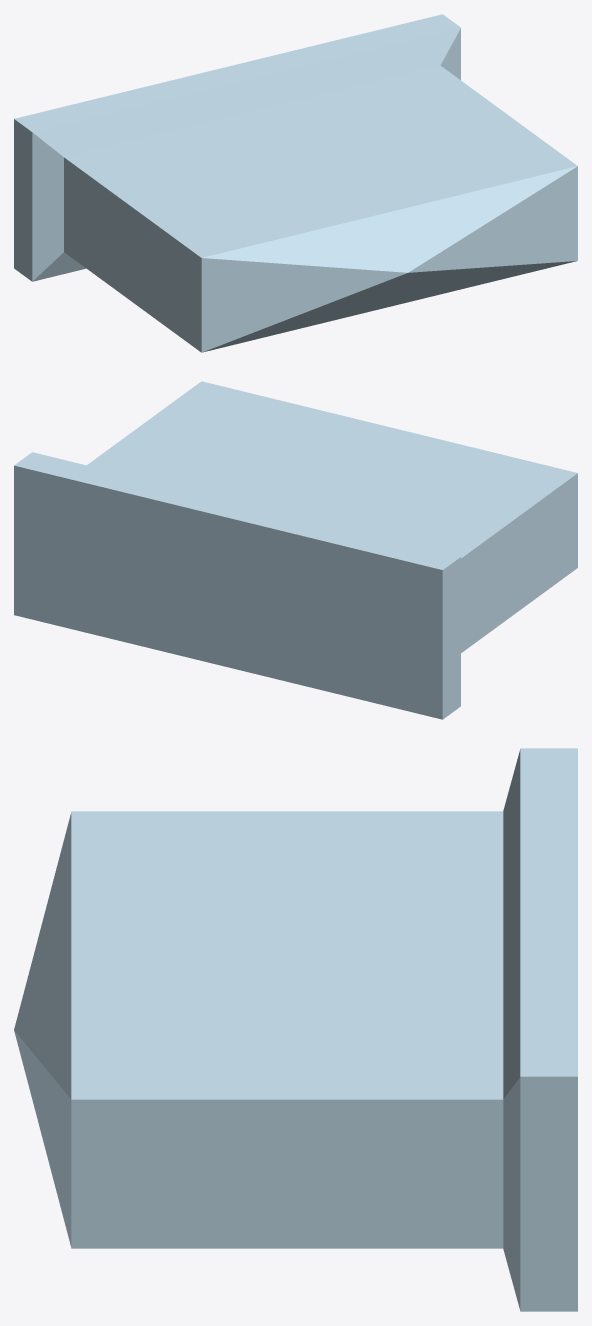
The picture shows the model from 3 angles, top to bottom: view 1: azimuth 30°, elevation 25°; view 2: azimuth 150°, elevation 25°; view 3: azimuth 270°, elevation 25°; orthographic projection. The views are drawn at different scales.
Parts seen in each view (by area): view 1: PA-550-F_LOD0; view 2: PA-550-F_LOD0; view 3: PA-550-F_LOD0.
Part boxes in pixels (x1,y1,x2,y2): PA-550-F_LOD0: (14, 14, 577, 352); PA-550-F_LOD0: (14, 381, 577, 719); PA-550-F_LOD0: (14, 748, 577, 1311).
Bounding box in the file's own units: 137 × 45.72 × 99.55.
